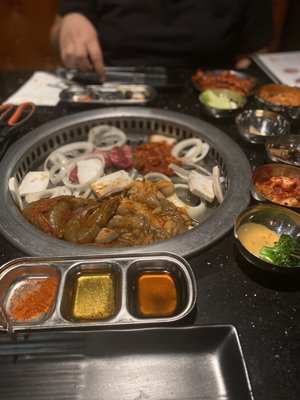sushi: (1, 105, 253, 260), (233, 203, 300, 293), (251, 163, 300, 208), (235, 108, 291, 144), (197, 88, 247, 119), (265, 133, 300, 168)
